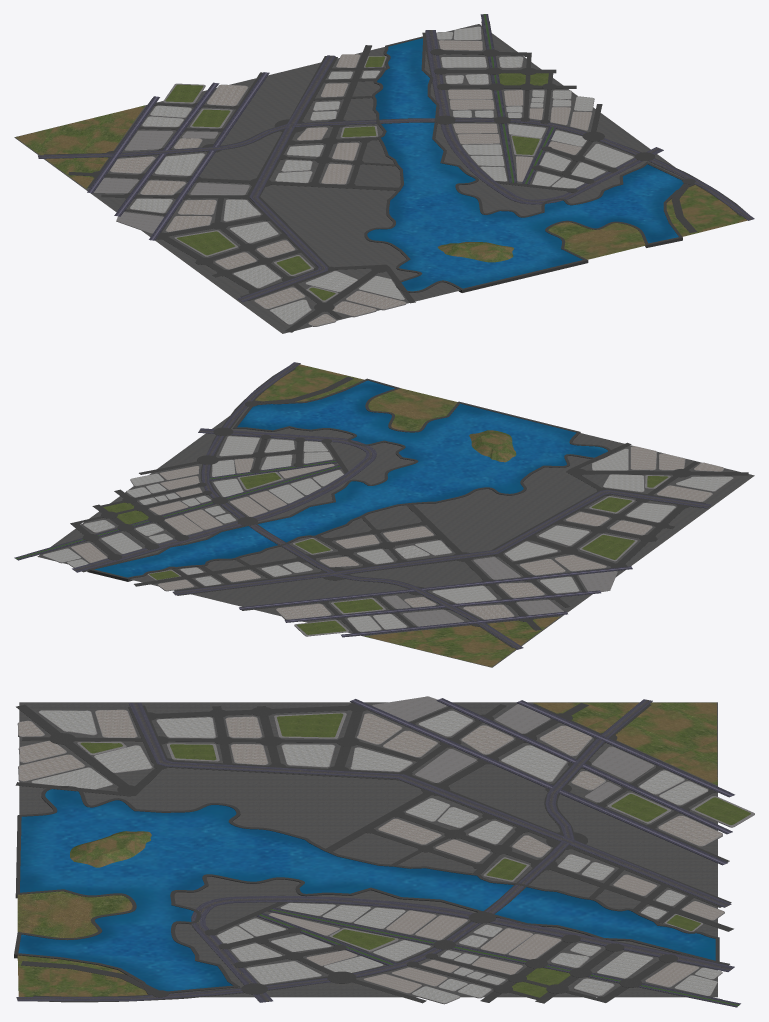
Rendered from dixing.FBX.
3 renders of one model, top to bottom at view 1: azimuth 30°, elevation 25°; view 2: azimuth 150°, elevation 25°; view 3: azimuth 270°, elevation 25°, orthographic. The views are drawn at different scales.
Visible parts, largest first — view 1: dimian, Rectangle117, Line104, luxian, lu02, Line109, haian; view 2: dimian, Rectangle117, Line104, luxian, lu02, Line109, haian; view 3: Rectangle117, dimian, Line104, luxian, lu02, Line109, haian.
Part boxes in pixels (x1,y1,x2,y2): dimian: (14, 24, 684, 333); Rectangle117: (93, 26, 633, 326); Line104: (367, 38, 683, 291); luxian: (44, 21, 747, 332); lu02: (38, 14, 754, 302); Line109: (16, 105, 747, 262); haian: (364, 35, 694, 292); dimian: (37, 406, 754, 667); Rectangle117: (42, 436, 733, 636); Line104: (94, 380, 607, 577); luxian: (31, 367, 748, 648); lu02: (14, 362, 711, 649); Line109: (255, 364, 560, 666); haian: (87, 378, 611, 581); Rectangle117: (17, 696, 754, 1004); dimian: (19, 702, 717, 997); Line104: (18, 789, 715, 991); luxian: (15, 703, 733, 1003); lu02: (16, 698, 740, 1007); Line109: (17, 702, 717, 996); haian: (14, 786, 719, 994).
Bounding box in the file's own units: 313408 × 3840 × 315257.
